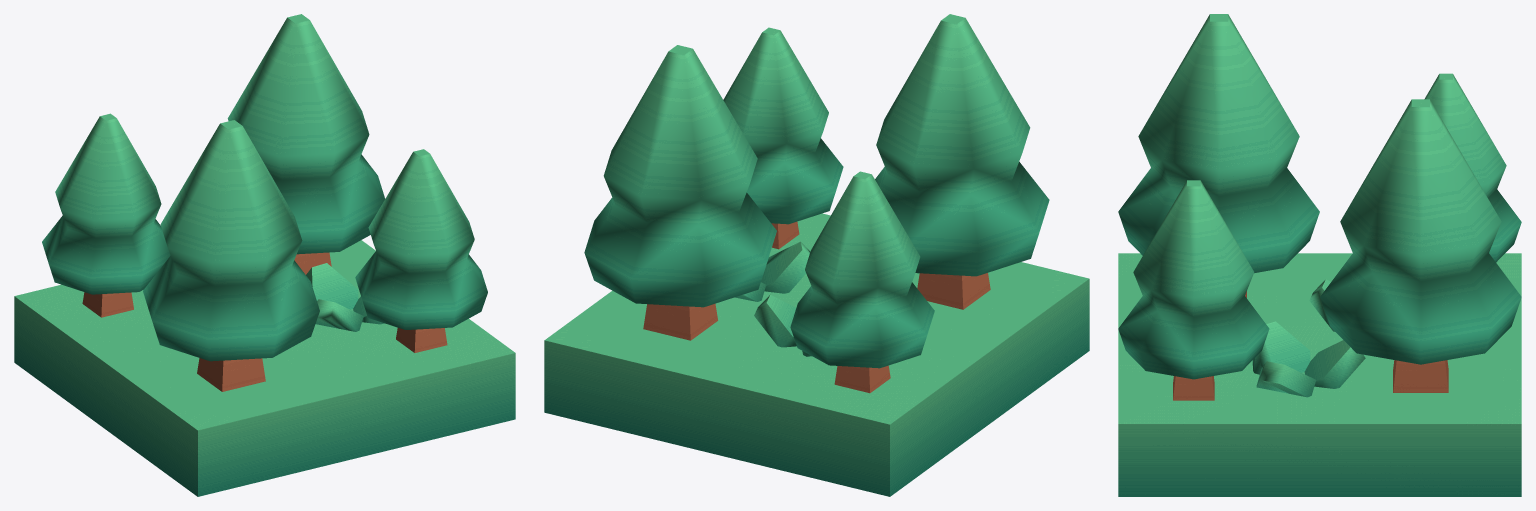
File: tile-tree-quad.glb
3 renders of one model, left to right at view 1: azimuth 30°, elevation 25°; view 2: azimuth 150°, elevation 25°; view 3: azimuth 270°, elevation 25°, orthographic. The views are drawn at different scales.
Visible parts, largest first — view 1: tile-tree-quad; view 2: tile-tree-quad; view 3: tile-tree-quad.
Part boxes in pixels (x1,y1,x2,y2): tile-tree-quad: (14, 14, 515, 496); tile-tree-quad: (544, 14, 1089, 496); tile-tree-quad: (1118, 14, 1521, 496).
Size of the model in its own units: 1 by 0.96 by 1.
Materials: 1 (1 with a texture image).
